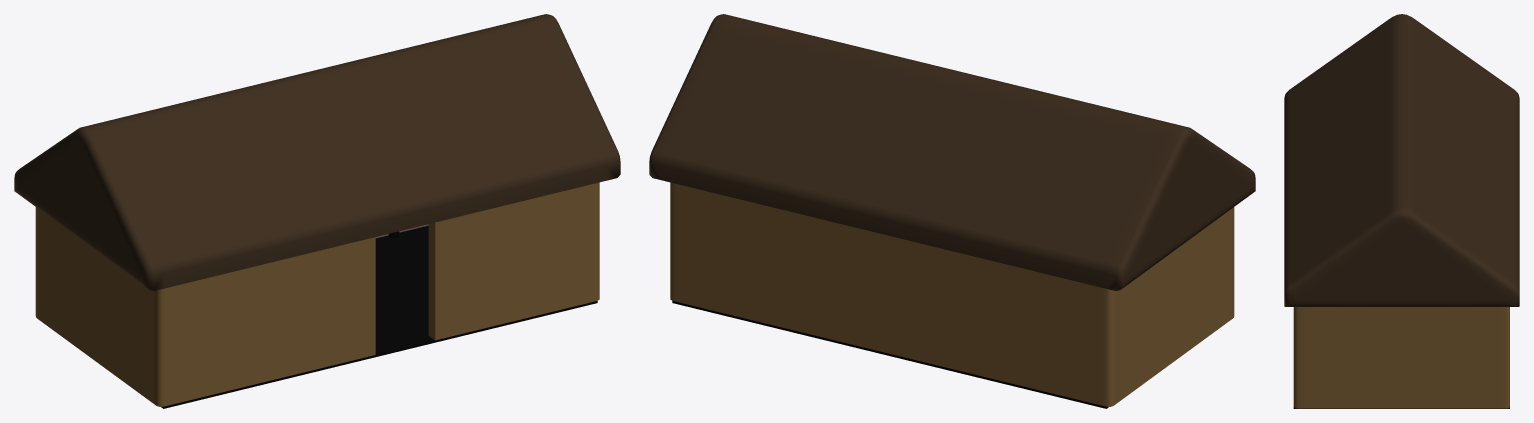
The model's file is Hut_2.fbx.
3 renders of one model, left to right at view 1: azimuth 30°, elevation 25°; view 2: azimuth 150°, elevation 25°; view 3: azimuth 270°, elevation 25°, orthographic. The views are drawn at different scales.
Parts seen in each view (by area): view 1: Hut_2; view 2: Hut_2; view 3: Hut_2.
Part boxes in pixels (x1,y1,x2,y2): Hut_2: [14, 14, 620, 408]; Hut_2: [649, 14, 1255, 408]; Hut_2: [1284, 14, 1519, 408].
Size of the model in its own units: 21.88 by 10.5 by 10.89.
